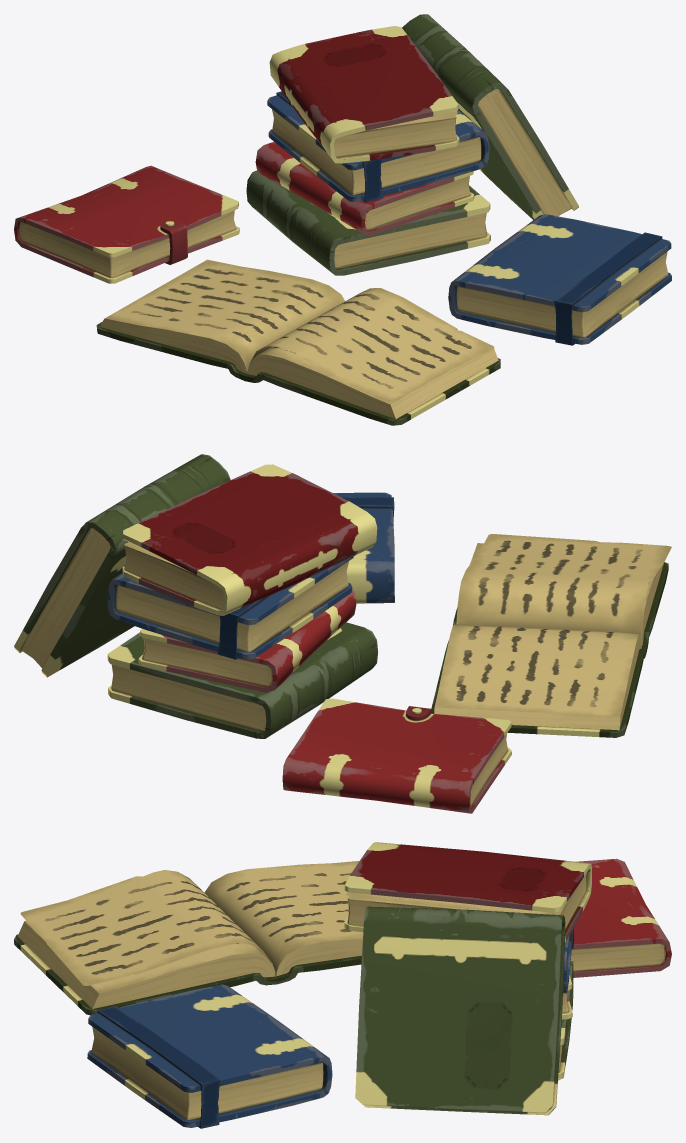
Rendered from stylized_books.glb.
3 renders of one model, top to bottom at view 1: azimuth 30°, elevation 25°; view 2: azimuth 150°, elevation 25°; view 3: azimuth 270°, elevation 25°, orthographic. The views are drawn at different scales.
Visible parts, largest first — view 1: 5__0, 3.1__0, 4__0, 1.1__0, 2.2__0, 2.1__0, 3.2__0, 1.2__0; view 2: 5__0, 4__0, 1.1__0, 2.2__0, 2.1__0, 3.2__0, 1.2__0, 3.1__0; view 3: 2.2__0, 5__0, 3.1__0, 4__0, 1.1__0, 2.1__0.
Boxes of the visible parts, box(x1,y1,x2,y2) form: 5__0: box(96, 259, 500, 425); 3.1__0: box(448, 214, 671, 345); 4__0: box(269, 26, 459, 163); 1.1__0: box(14, 165, 239, 283); 2.2__0: box(402, 14, 578, 219); 2.1__0: box(246, 170, 490, 275); 3.2__0: box(267, 91, 489, 202); 1.2__0: box(255, 141, 474, 235); 5__0: box(431, 534, 671, 737); 4__0: box(122, 464, 377, 615); 1.1__0: box(282, 698, 511, 813); 2.2__0: box(14, 454, 230, 677); 2.1__0: box(107, 622, 377, 738); 3.2__0: box(107, 556, 353, 659); 1.2__0: box(138, 590, 356, 692); 3.1__0: box(333, 492, 394, 603); 2.2__0: box(355, 906, 565, 1115); 5__0: box(14, 861, 363, 1015); 3.1__0: box(87, 984, 332, 1128); 4__0: box(344, 842, 591, 941); 1.1__0: box(570, 858, 671, 977); 2.1__0: box(558, 961, 573, 1080).
Bounding box in the file's own units: 0.8694 × 0.2758 × 0.938.
1 material, 1 textured.
